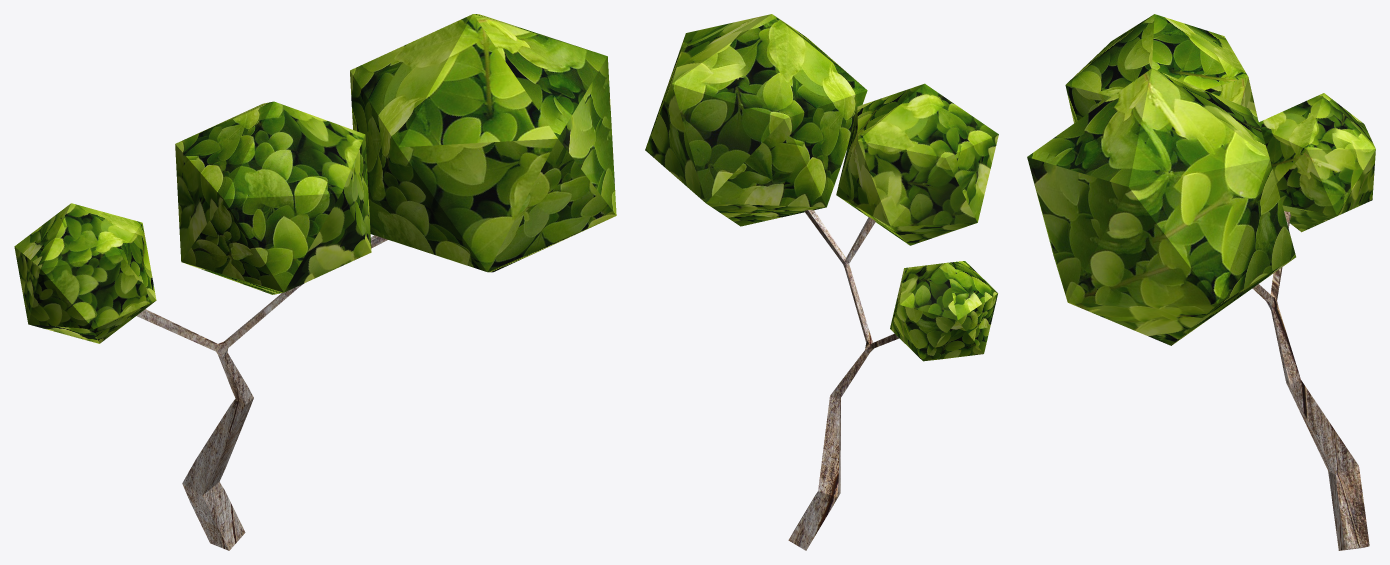
Rendered from Trees2.fbx.
3 views of the same model, side by side, from view 1: azimuth 30°, elevation 25°; view 2: azimuth 150°, elevation 25°; view 3: azimuth 270°, elevation 25° (orthographic). The views are drawn at different scales.
Parts seen in each view (by area): view 1: Cube.012; view 2: Cube.012; view 3: Cube.012.
Part boxes in pixels (<box>): Cube.012: <box>14,14,616,550</box>; Cube.012: <box>645,14,998,550</box>; Cube.012: <box>1027,14,1375,550</box>.
Size of the model in its own units: 3645 by 4064 by 2328.
